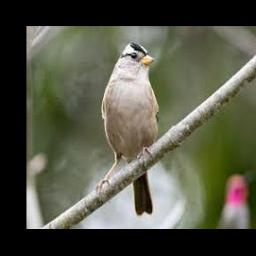Sparrow: (96, 43, 160, 215)
